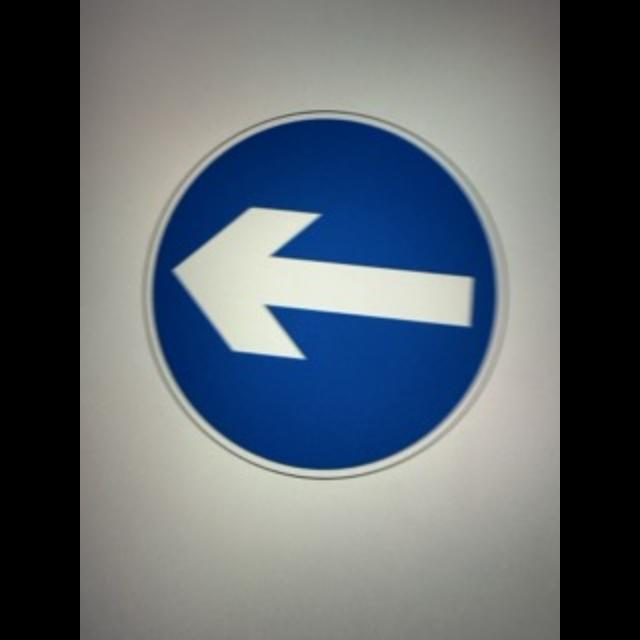TURN LEFT: (145, 105, 511, 482)
